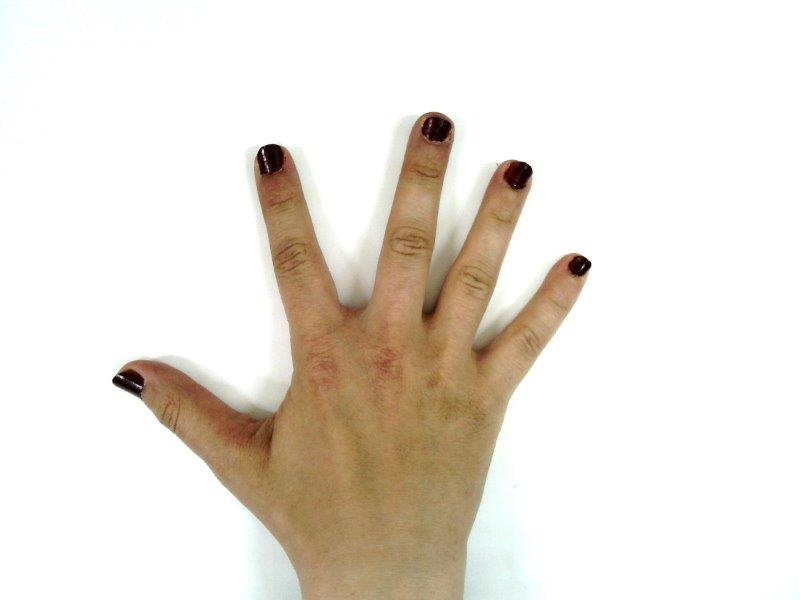hand: (111, 112, 593, 521)
